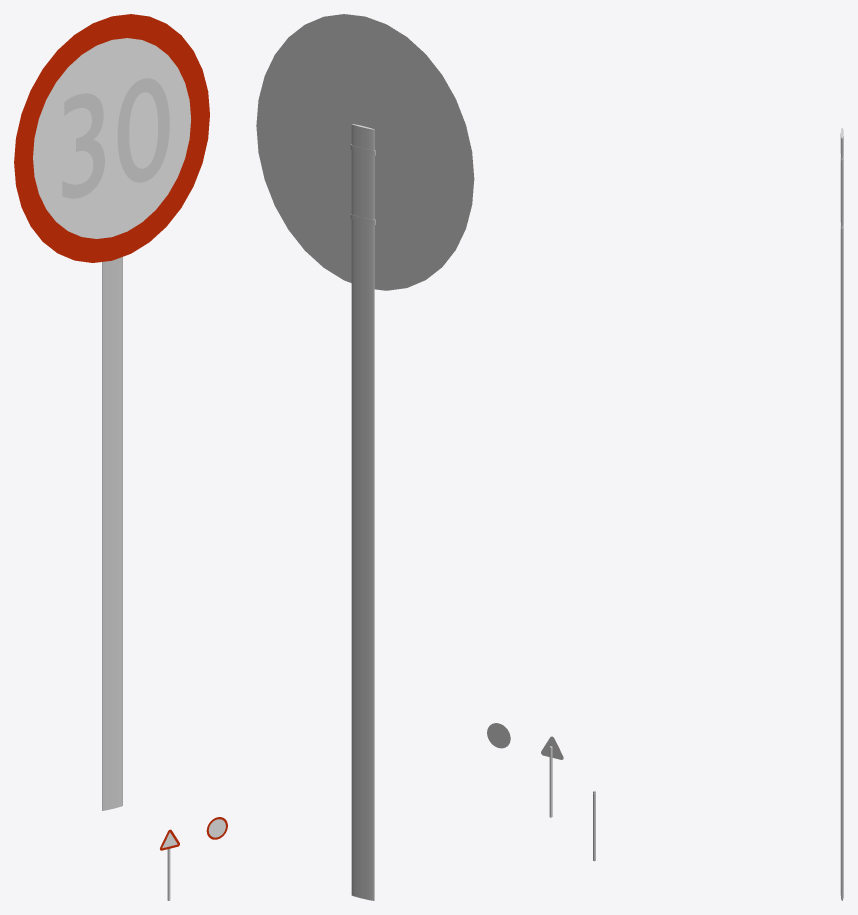
3 views of the same model, side by side, from view 1: azimuth 30°, elevation 25°; view 2: azimuth 150°, elevation 25°; view 3: azimuth 270°, elevation 25° (orthographic). The views are drawn at different scales.
Parts seen in each view (by area): view 1: speed limit sign plate, speed limit sign leg, speed limit sign text; view 2: speed limit sign plate, speed limit sign leg; view 3: speed limit sign leg.
Part boxes in pixels (x1,y1,x2,y2): speed limit sign plate: (14,14,209,262); speed limit sign leg: (102,257,122,810); speed limit sign text: (62,78,169,198); speed limit sign plate: (256,14,474,290); speed limit sign leg: (350,124,375,900); speed limit sign leg: (840,127,843,900).
Bounding box in the file's own units: 1.66 × 6.41 × 1.68.
